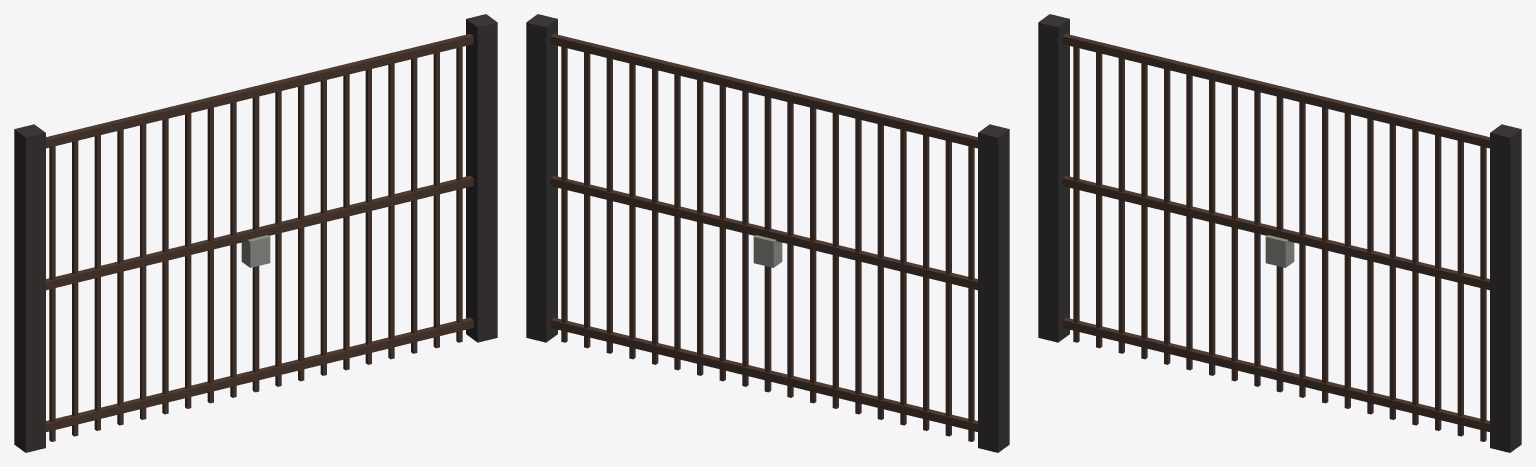
The model's file is gate.glb.
3 views of the same model, side by side, from view 1: azimuth 30°, elevation 25°; view 2: azimuth 150°, elevation 25°; view 3: azimuth 330°, elevation 25° (orthographic).
Parts seen in each view (by area): view 1: gate; view 2: gate; view 3: gate.
Boxes of the visible parts, bbox=[...] form: gate: bbox=[14, 14, 497, 452]; gate: bbox=[526, 14, 1009, 452]; gate: bbox=[1038, 14, 1521, 452].
Bounding box in the file's own units: 9.4 × 6 × 0.4.
